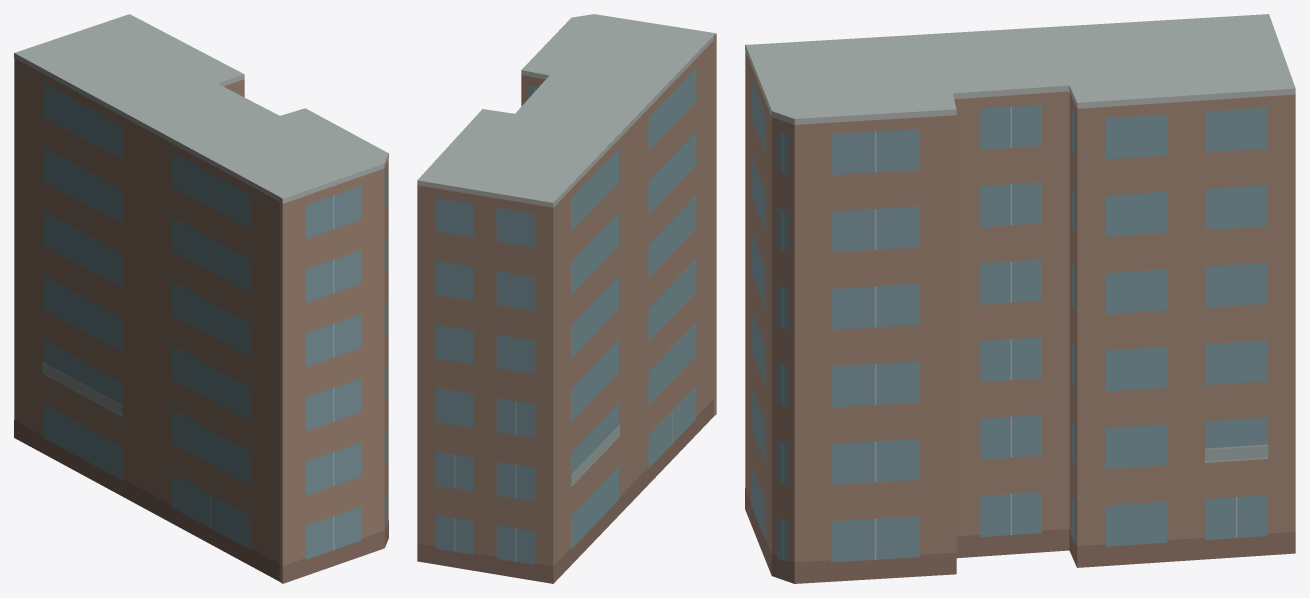
Rendered from survey-upis-32741538.glb.
3 views of the same model, side by side, from view 1: azimuth 30°, elevation 25°; view 2: azimuth 150°, elevation 25°; view 3: azimuth 270°, elevation 25° (orthographic). The views are drawn at different scales.
Visible parts, largest first — view 1: survey-upis-32741538.tmp; view 2: survey-upis-32741538.tmp; view 3: survey-upis-32741538.tmp.
Part boxes in pixels (x1=…): survey-upis-32741538.tmp: x1=14, y1=14, x2=388, y2=583; survey-upis-32741538.tmp: x1=417, y1=14, x2=716, y2=583; survey-upis-32741538.tmp: x1=745, y1=14, x2=1295, y2=583.
Size of the model in its own units: 9.36 by 19.3 by 20.72.
